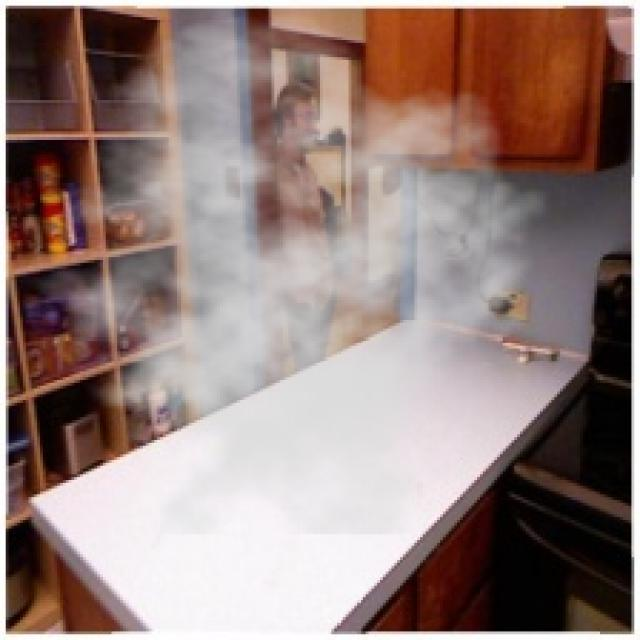smoke: (9, 12, 552, 534)
